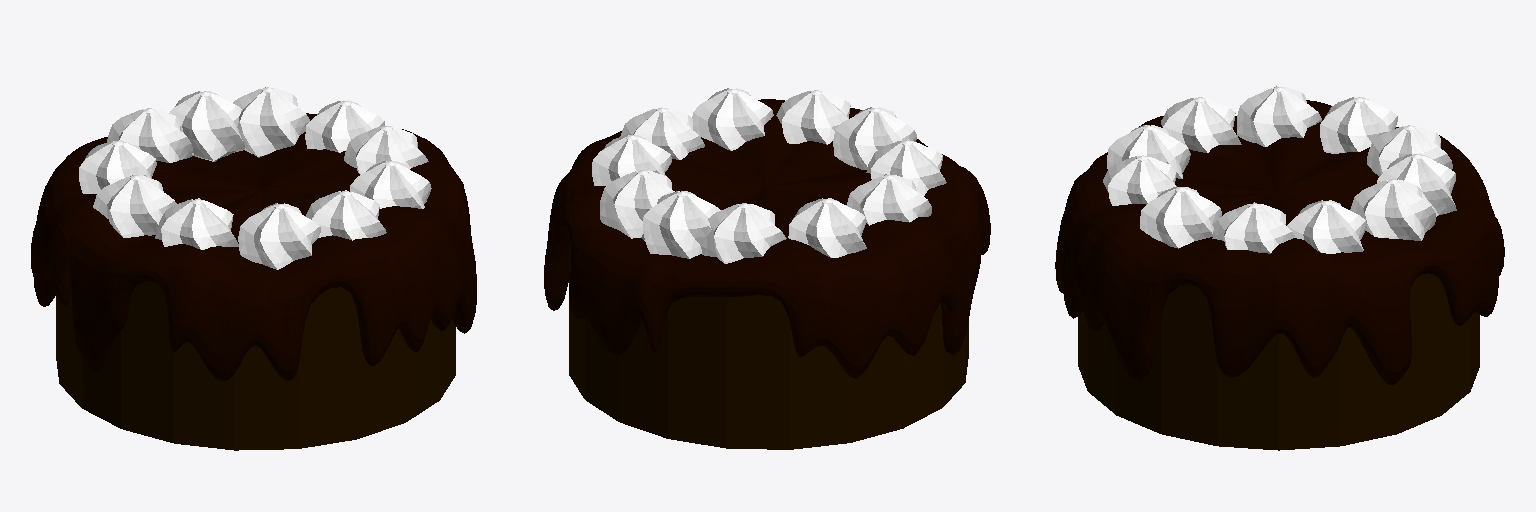
File: Cake01.obj
The picture shows the model from 3 angles: view 1: azimuth 30°, elevation 25°; view 2: azimuth 150°, elevation 25°; view 3: azimuth 270°, elevation 25°; orthographic projection.
Visible parts, largest first — view 1: Cake01_Cylinder.025; view 2: Cake01_Cylinder.025; view 3: Cake01_Cylinder.025.
Boxes of the visible parts, x1=… form: Cake01_Cylinder.025: x1=31, y1=87, x2=476, y2=450; Cake01_Cylinder.025: x1=544, y1=88, x2=990, y2=449; Cake01_Cylinder.025: x1=1055, y1=86, x2=1504, y2=450.
Size of the model in its own units: 9.1 by 4.91 by 9.12.